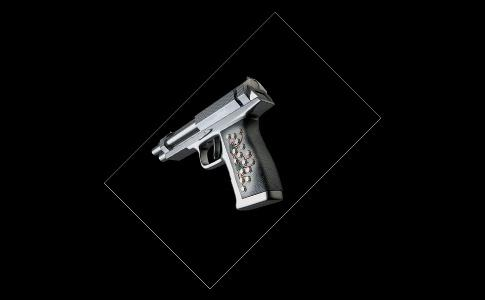weapon: (149, 75, 286, 214)
